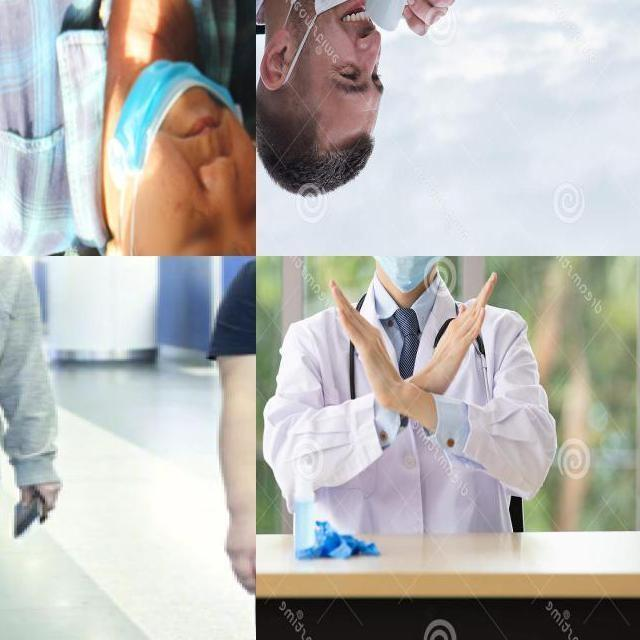hairnet: (79, 50, 255, 255), (249, 0, 430, 100)
no_apron: (412, 266, 507, 435), (323, 275, 415, 425), (220, 492, 268, 596)
no_gloves: (252, 93, 391, 213)
